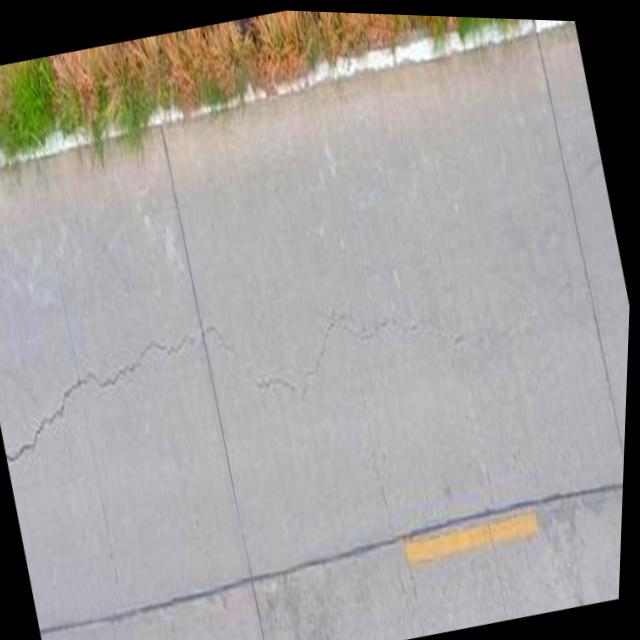Crack: (0, 313, 199, 500)
